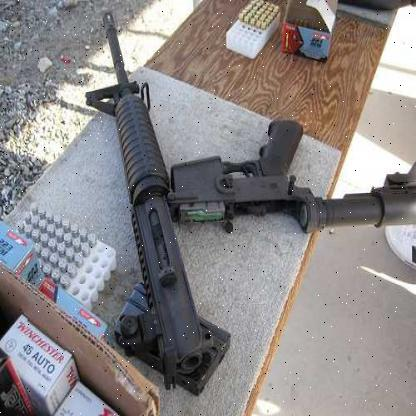rifle: (80, 14, 254, 394), (169, 96, 415, 248)
